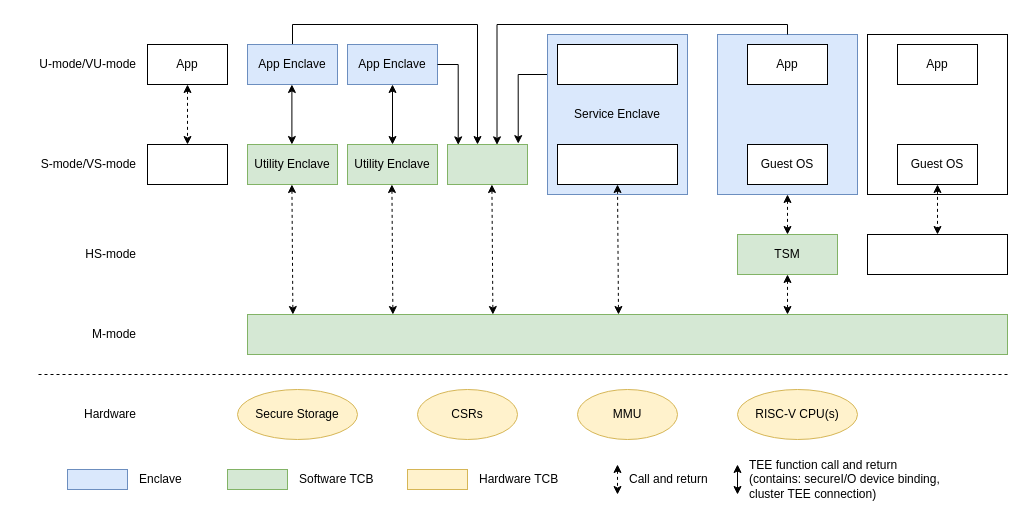
This 1026x527 diagram has some shape labels left out. Here are the shapes that lost their labels. From the top down, the box of each, then its label:
(556, 44, 678, 84): Enclave App
(716, 34, 858, 194): CVM
(866, 34, 1008, 194): VM
(146, 144, 228, 184): Host OS (S-mode)
(446, 144, 528, 184): Attestation Enclave
(556, 144, 678, 184): Runtime
(866, 234, 1008, 274): VMM/Host OS(HS-mode)
(246, 314, 1008, 354): Security Monitor
